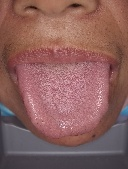tongue: (14, 66, 110, 140)
